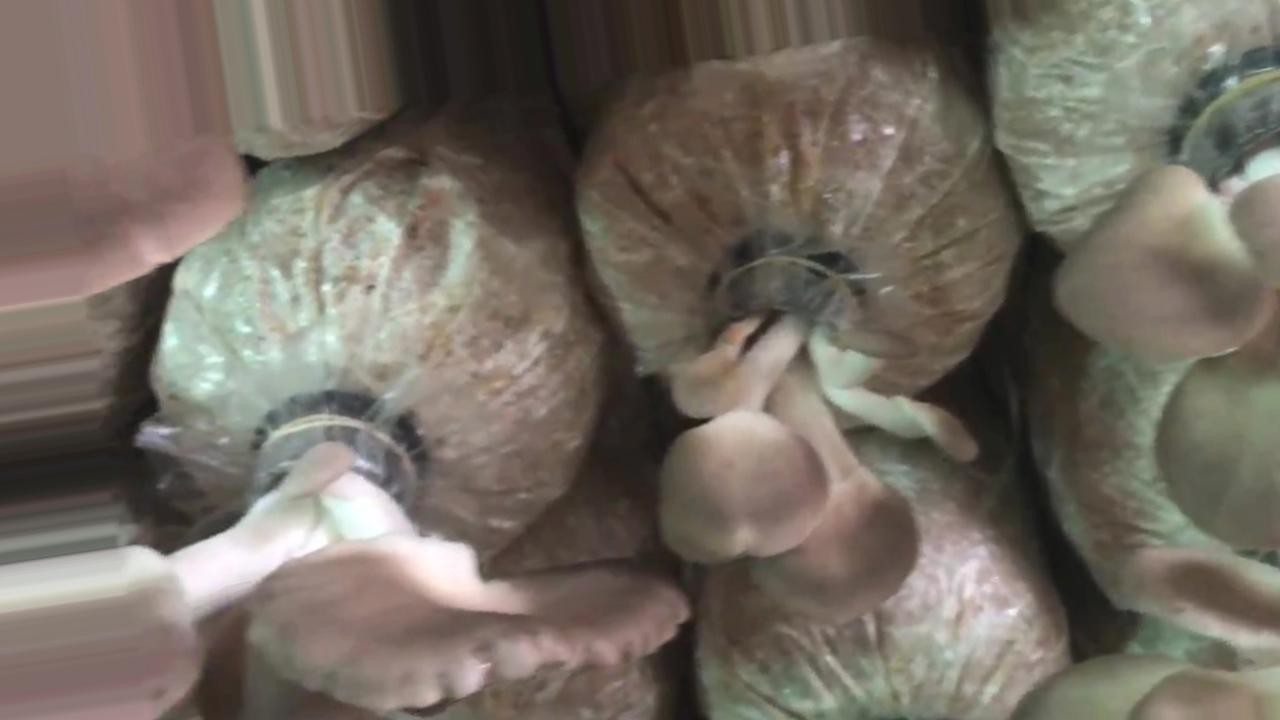nam: (150, 384, 693, 716), (652, 224, 980, 630), (1060, 53, 1280, 549)
